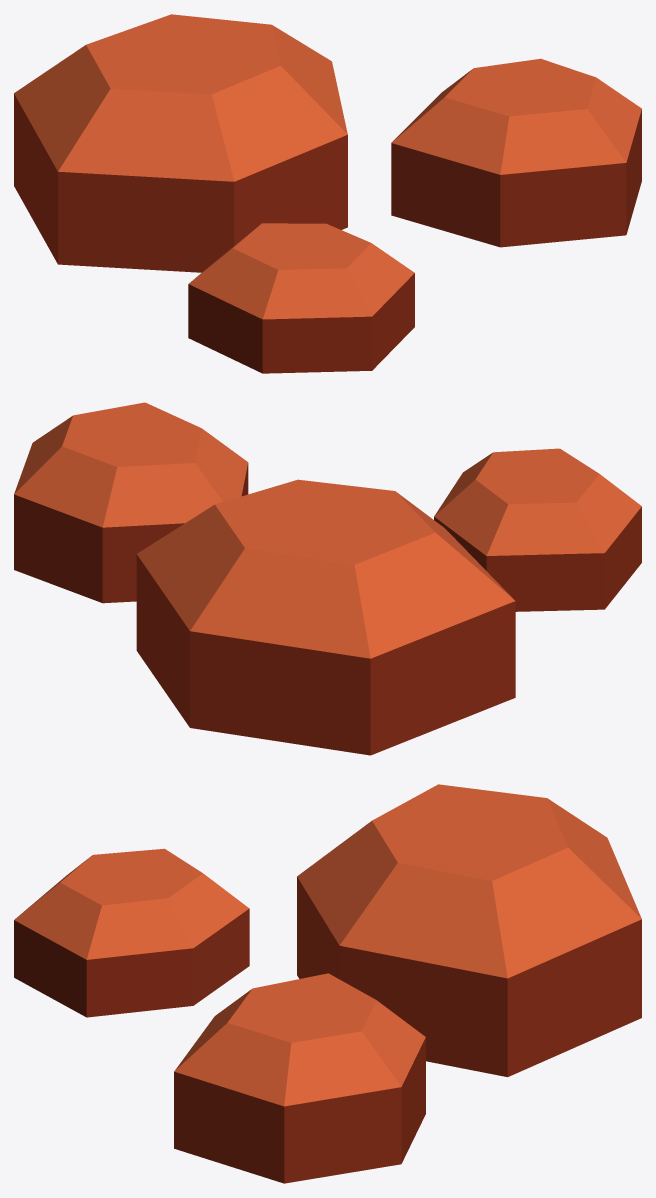
The model's file is rock_pebbles.glb.
3 views of the same model, one above another, from view 1: azimuth 30°, elevation 25°; view 2: azimuth 150°, elevation 25°; view 3: azimuth 270°, elevation 25° (orthographic). The views are drawn at different scales.
Visible parts, largest first — view 1: rock_pebbles; view 2: rock_pebbles; view 3: rock_pebbles.
Boxes of the visible parts, x1,y1,x2,y2 form: rock_pebbles: (14,14,641,373); rock_pebbles: (14,402,641,755); rock_pebbles: (14,784,641,1183).
Bounding box in the file's own units: 0.6877 × 0.19 × 0.6715.
1 material, 1 textured.
